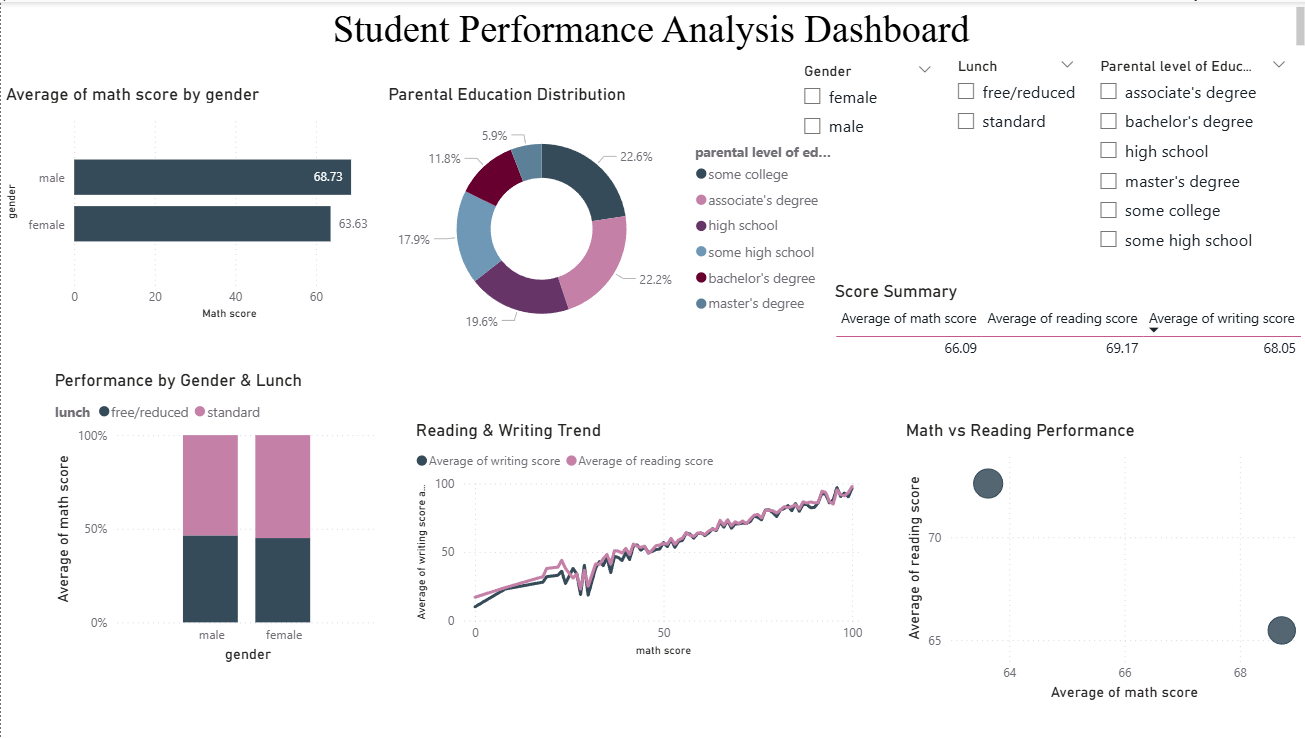

Layout of this report page (visuals, bound fields, positions):
{"tool":"powerbi","page":{"name":"Page 1","canvas":[1280,720],"ordinal":0},"visuals":[{"type":"clusteredBarChart","title":" Average of math score by gender","fields":{"Category":["Sheet1.gender"],"Y":["Avg(Sheet1.math score)"]},"box":[0,78.9,387.8,236.7],"z":0},{"type":"hundredPercentStackedColumnChart","title":"Performance by Gender & Lunch","fields":{"Category":["Sheet1.gender"],"Y":["Avg(Sheet1.math score)"],"Series":["Sheet1.lunch"]},"box":[47.8,360,326.7,291.1],"z":1000},{"type":"donutChart","title":" Parental Education Distribution","fields":{"Category":["Sheet1.parental level of education"],"Y":["CountNonNull(Sheet1.gender)"]},"box":[374.4,78.9,446.7,264.4],"z":2000},{"type":"lineChart","title":"Reading & Writing Trend","fields":{"Category":["Sheet1.math score"],"Y":["Avg(Sheet1.writing score)","Avg(Sheet1.reading score)"]},"box":[401.1,408.9,446.7,236.7],"z":3000},{"type":"tableEx","title":"Score Summary","fields":{"Values":["Avg(Sheet1.math score)","Avg(Sheet1.reading score)","Avg(Sheet1.writing score)"]},"box":[811.1,272.2,468.9,112.2],"z":4000},{"type":"scatterChart","title":"Math vs Reading Performance","fields":{"X":["Avg(Sheet1.math score)"],"Y":["Avg(Sheet1.reading score)"],"Size":["Avg(Sheet1.writing score)"],"Category":["Sheet1.gender"]},"box":[880,408.9,400,280],"z":5000},{"type":"slicer","fields":{"Values":["Sheet1.gender"]},"box":[773.3,53.3,150,87.8],"z":6000},{"type":"slicer","fields":{"Values":["Sheet1.lunch"]},"box":[923.3,48.9,138.9,96.7],"z":7000},{"type":"slicer","fields":{"Values":["Sheet1.parental level of education"]},"box":[1062.2,48.9,206.7,215.6],"z":8000},{"type":"textbox","box":[0,0,1280,57.8],"z":12001}]}

Visuals, with their boxes in screenshot pixels (x1, y1, x2, y2), scaled from the page's 1280x720 canvas onto the 1305x738 screenshot:
" Average of math score by gender" clusteredBarChart: [0, 81, 395, 323]
"Performance by Gender & Lunch" hundredPercentStackedColumnChart: [49, 369, 382, 667]
" Parental Education Distribution" donutChart: [382, 81, 837, 352]
"Reading & Writing Trend" lineChart: [409, 419, 864, 662]
"Score Summary" tableEx: [827, 279, 1304, 394]
"Math vs Reading Performance" scatterChart: [897, 419, 1304, 706]
slicer - Sheet1.gender: [788, 55, 941, 145]
slicer - Sheet1.lunch: [941, 50, 1083, 149]
slicer - Sheet1.parental level of education: [1083, 50, 1294, 271]
textbox: [0, 0, 1304, 59]
